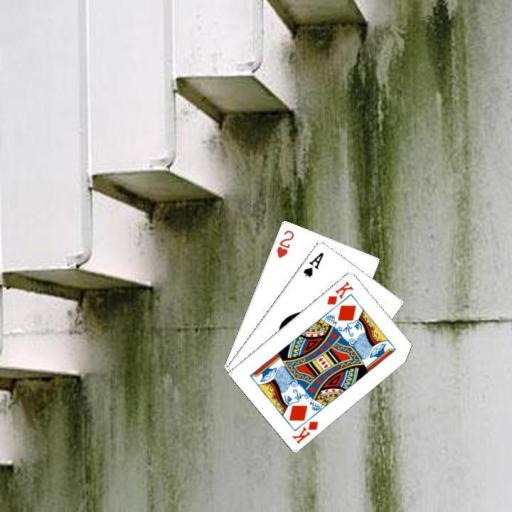2H: (273, 227, 295, 259)
AS: (300, 249, 325, 278)
KD: (323, 278, 355, 306), (289, 418, 320, 445)
